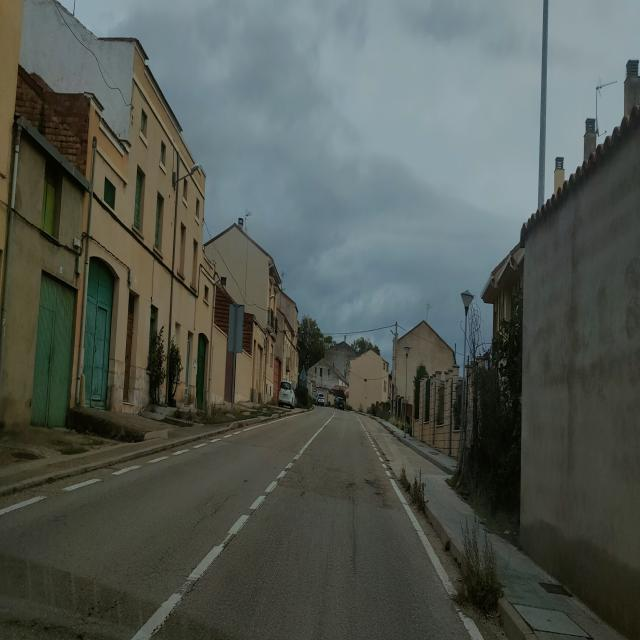Poth-hole: (361, 466, 382, 504), (39, 626, 81, 640), (84, 598, 101, 623), (109, 590, 128, 611), (0, 614, 27, 627), (150, 620, 168, 636), (224, 530, 237, 548), (186, 579, 197, 594), (172, 600, 180, 613)
